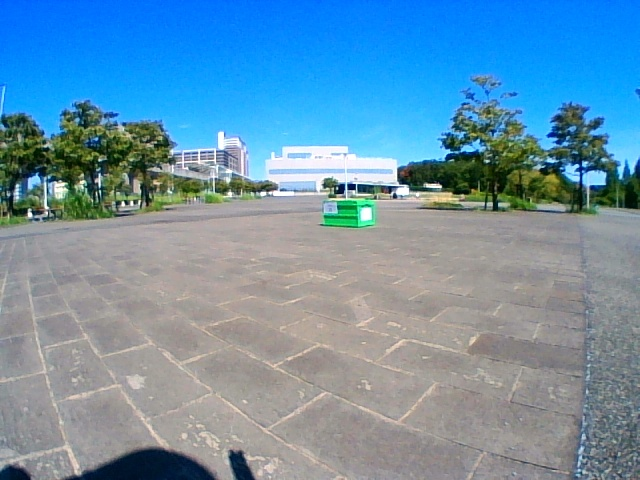green_box: (324, 200, 376, 227)
tag: (324, 203, 338, 214)
